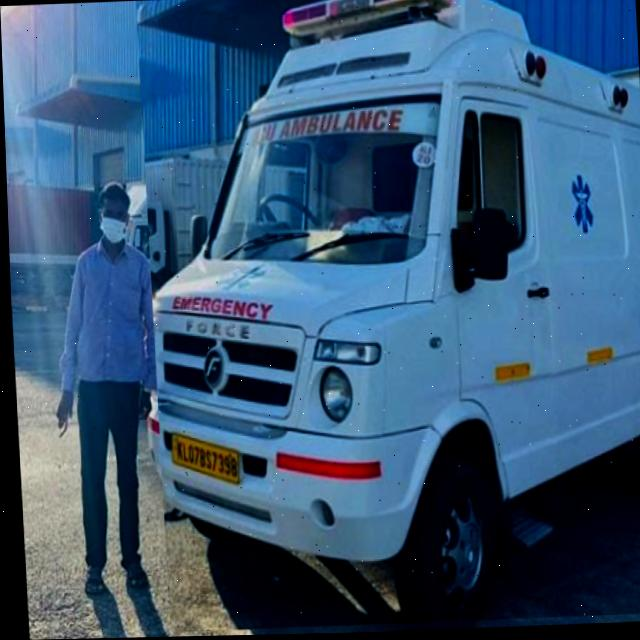Ambulance: (135, 0, 640, 633)
